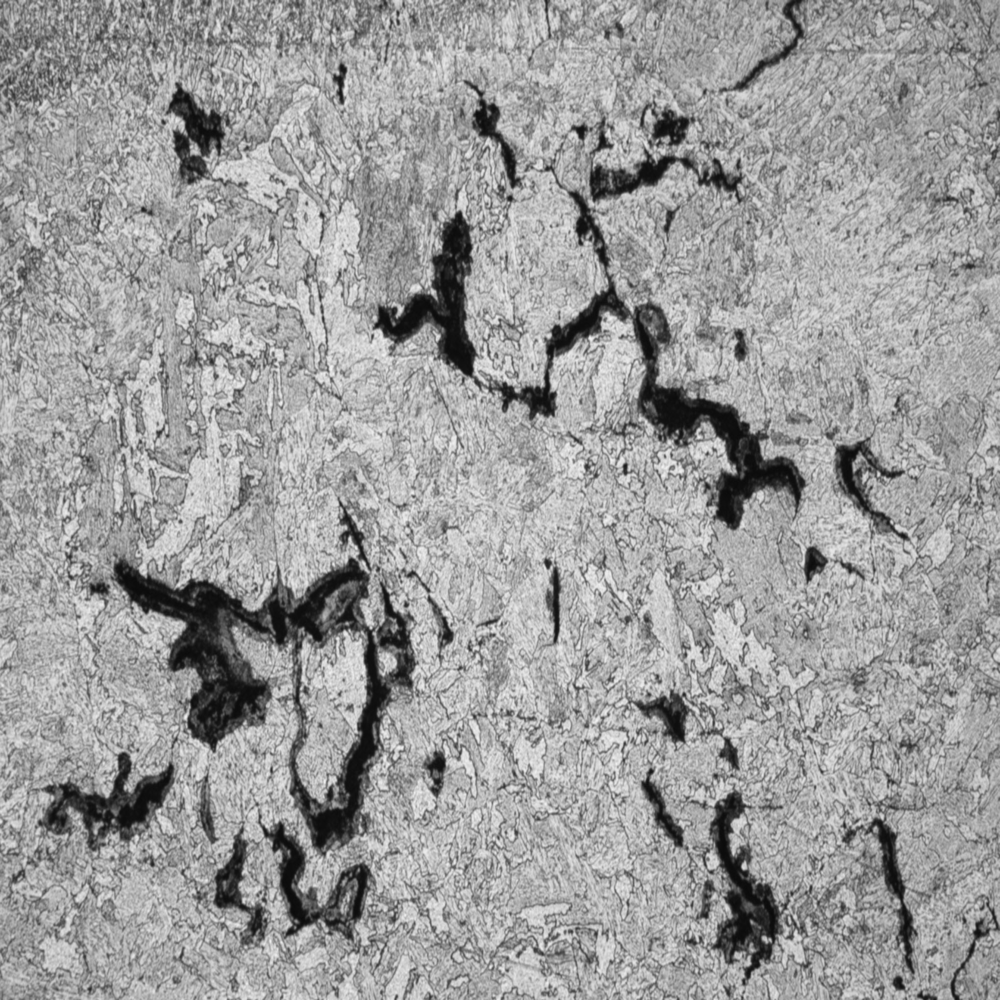crack: (142, 36, 925, 583), (13, 493, 433, 950), (607, 665, 935, 1000), (522, 531, 583, 644)
